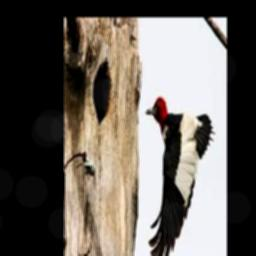Woodpecker: (146, 97, 216, 256)
